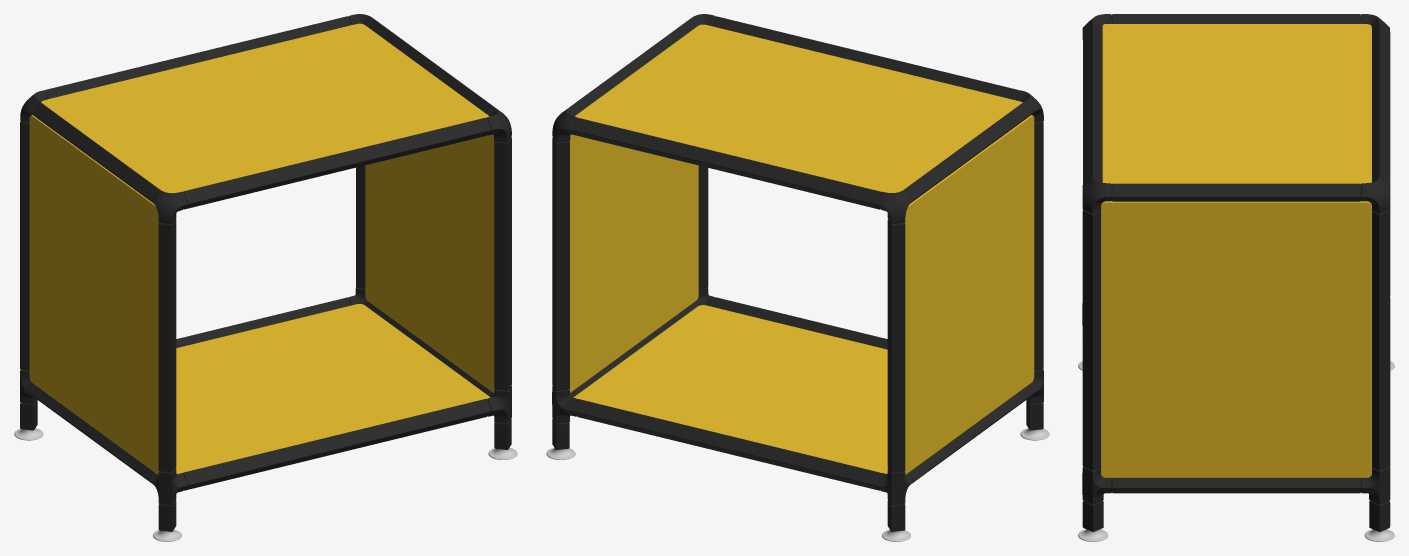
3 renders of one model, left to right at view 1: azimuth 30°, elevation 25°; view 2: azimuth 150°, elevation 25°; view 3: azimuth 270°, elevation 25°, orthographic. The views are drawn at different scales.
Parts seen in each view (by area): view 1: 479x329x374; view 2: 479x329x374; view 3: 479x329x374.
Part boxes in pixels (left/top/right/bottom): 479x329x374: left=14, top=14, right=517, bottom=541; 479x329x374: left=546, top=14, right=1049, bottom=541; 479x329x374: left=1078, top=14, right=1394, bottom=541.
Bounding box in the file's own units: 0.5689 × 0.5133 × 0.4182.
